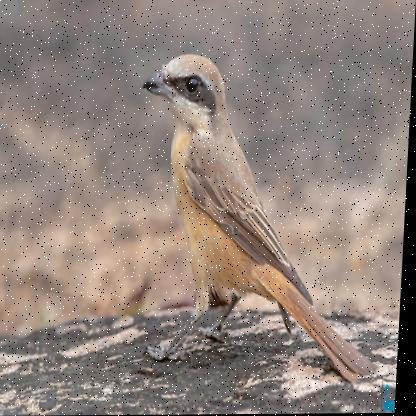Burung: (131, 51, 394, 388)
